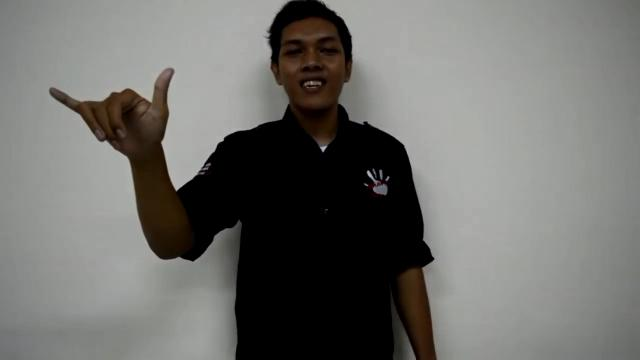Y: (47, 68, 199, 164)
